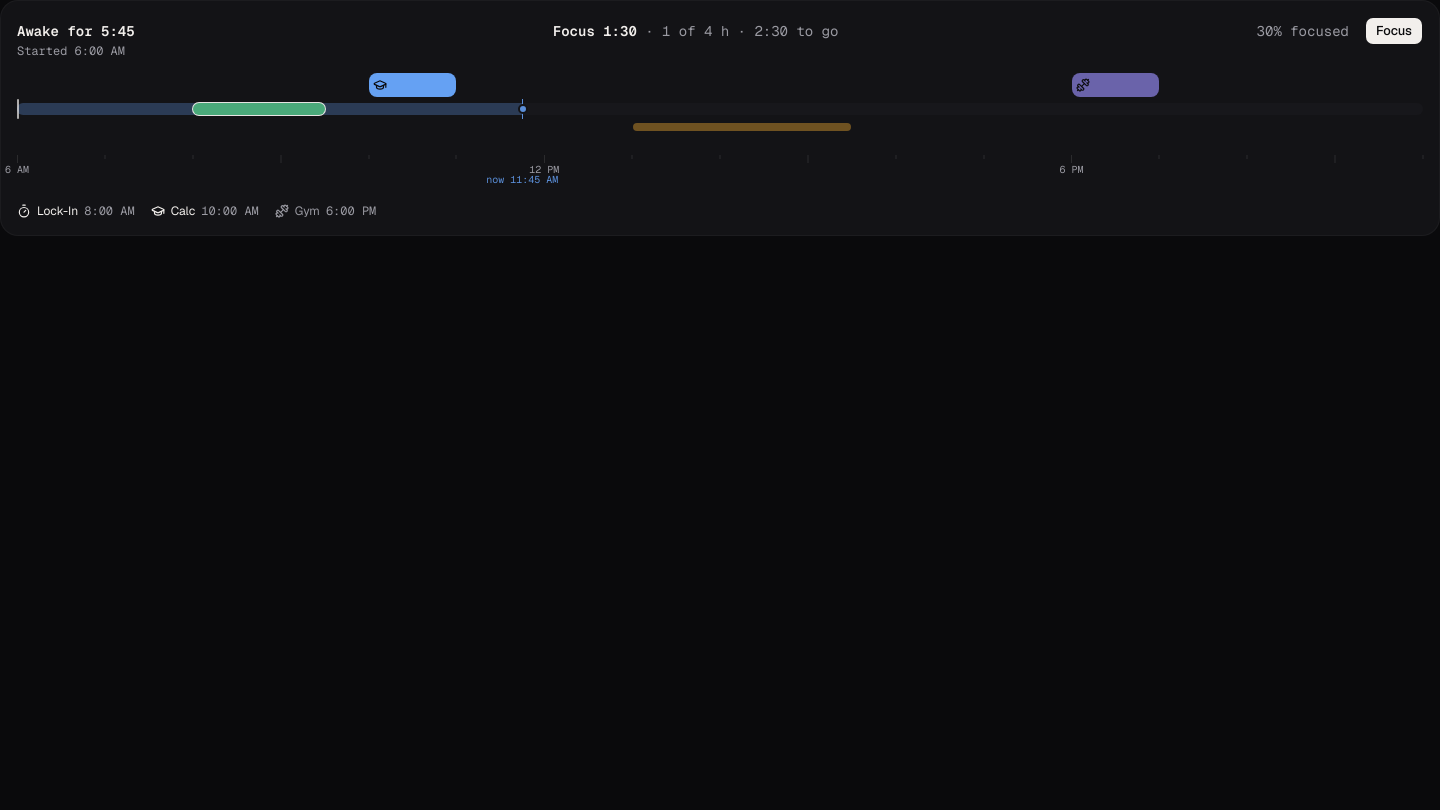
Test: DayBar (HOME-02) › on a phone the same indicator opens a BOTTOM SHEET instead of a popover
Click the button named "Class: Calculus" at (412, 85), box [368, 73, 456, 97]
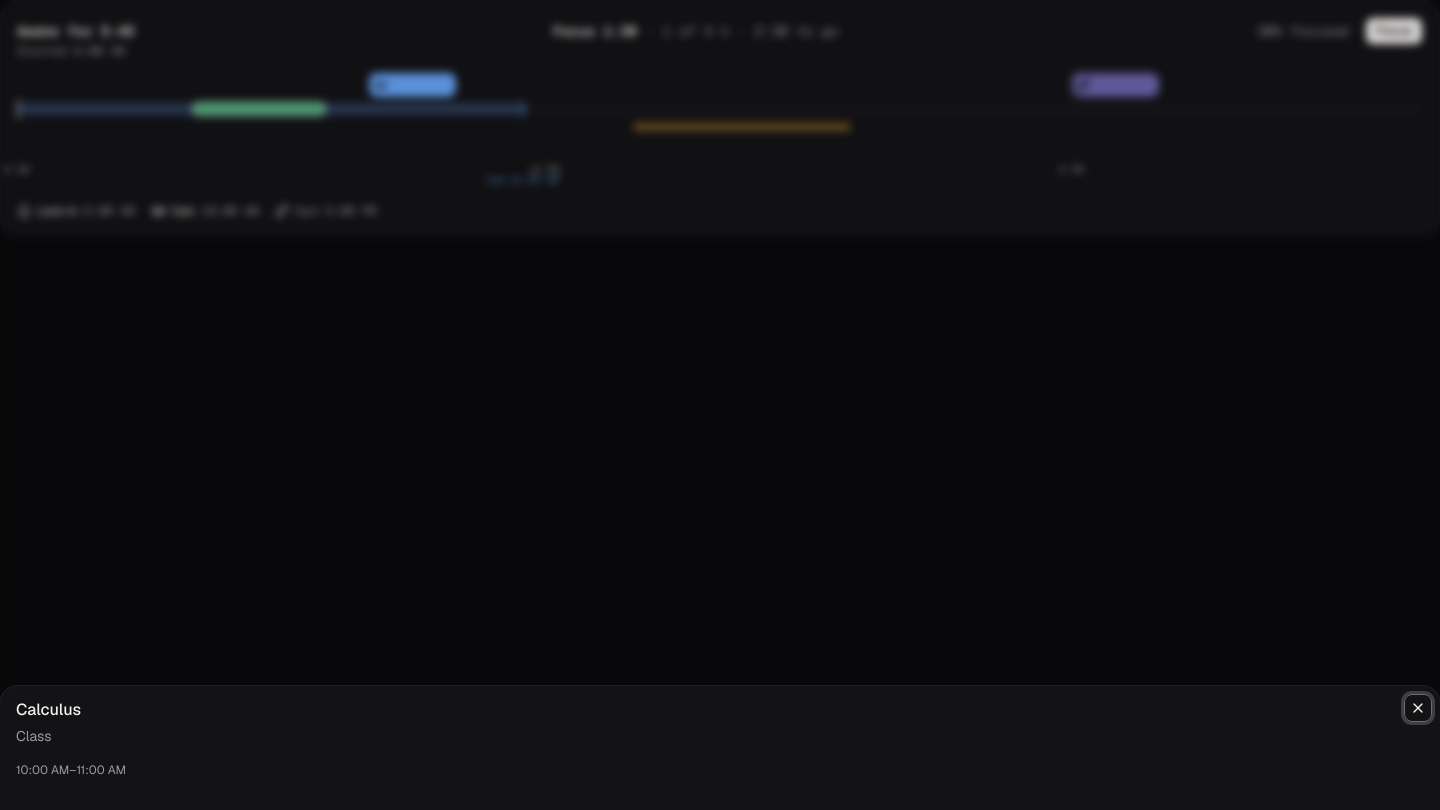
Now the dialog with test id "indicator-sheet" shows "Calculus", box [16, 699, 81, 720]
